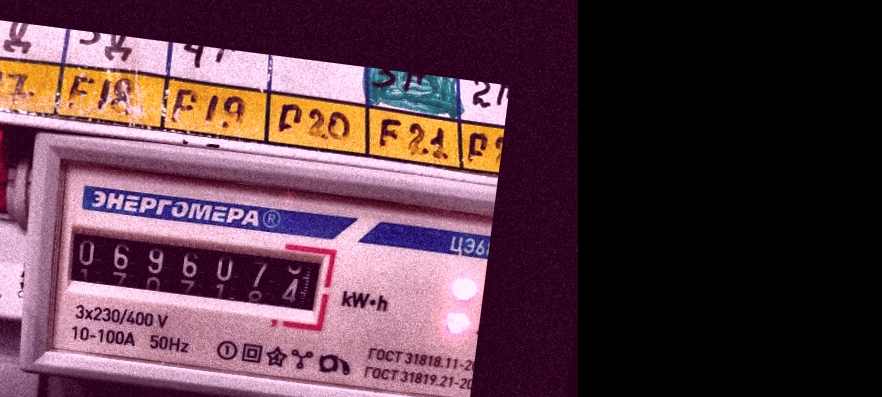0: (213, 251, 236, 283), (75, 236, 96, 266)
4: (280, 275, 299, 304)
6: (178, 249, 201, 280), (110, 240, 132, 270)
7: (248, 258, 269, 289)
9: (144, 245, 165, 275)
screen: (49, 207, 343, 331)
